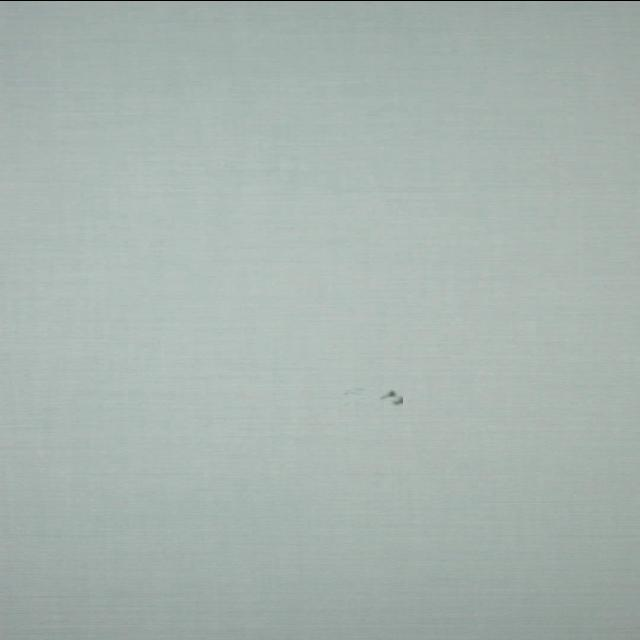dirty: (382, 389, 406, 405)
